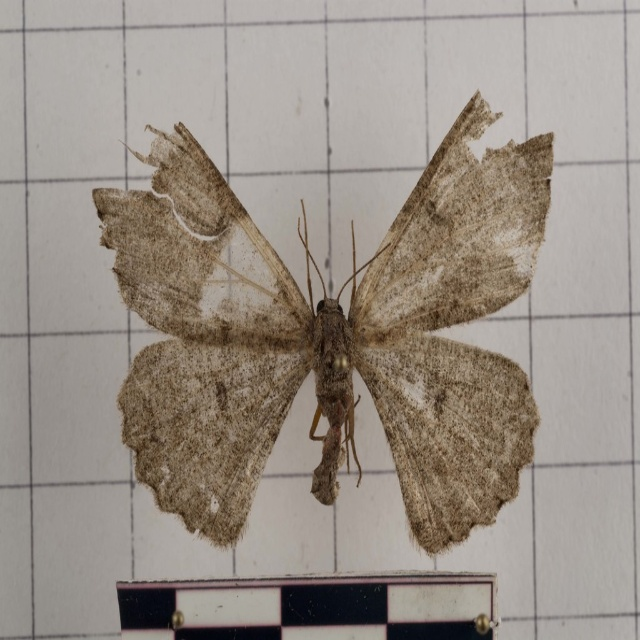Butterfly: (87, 94, 554, 546)
